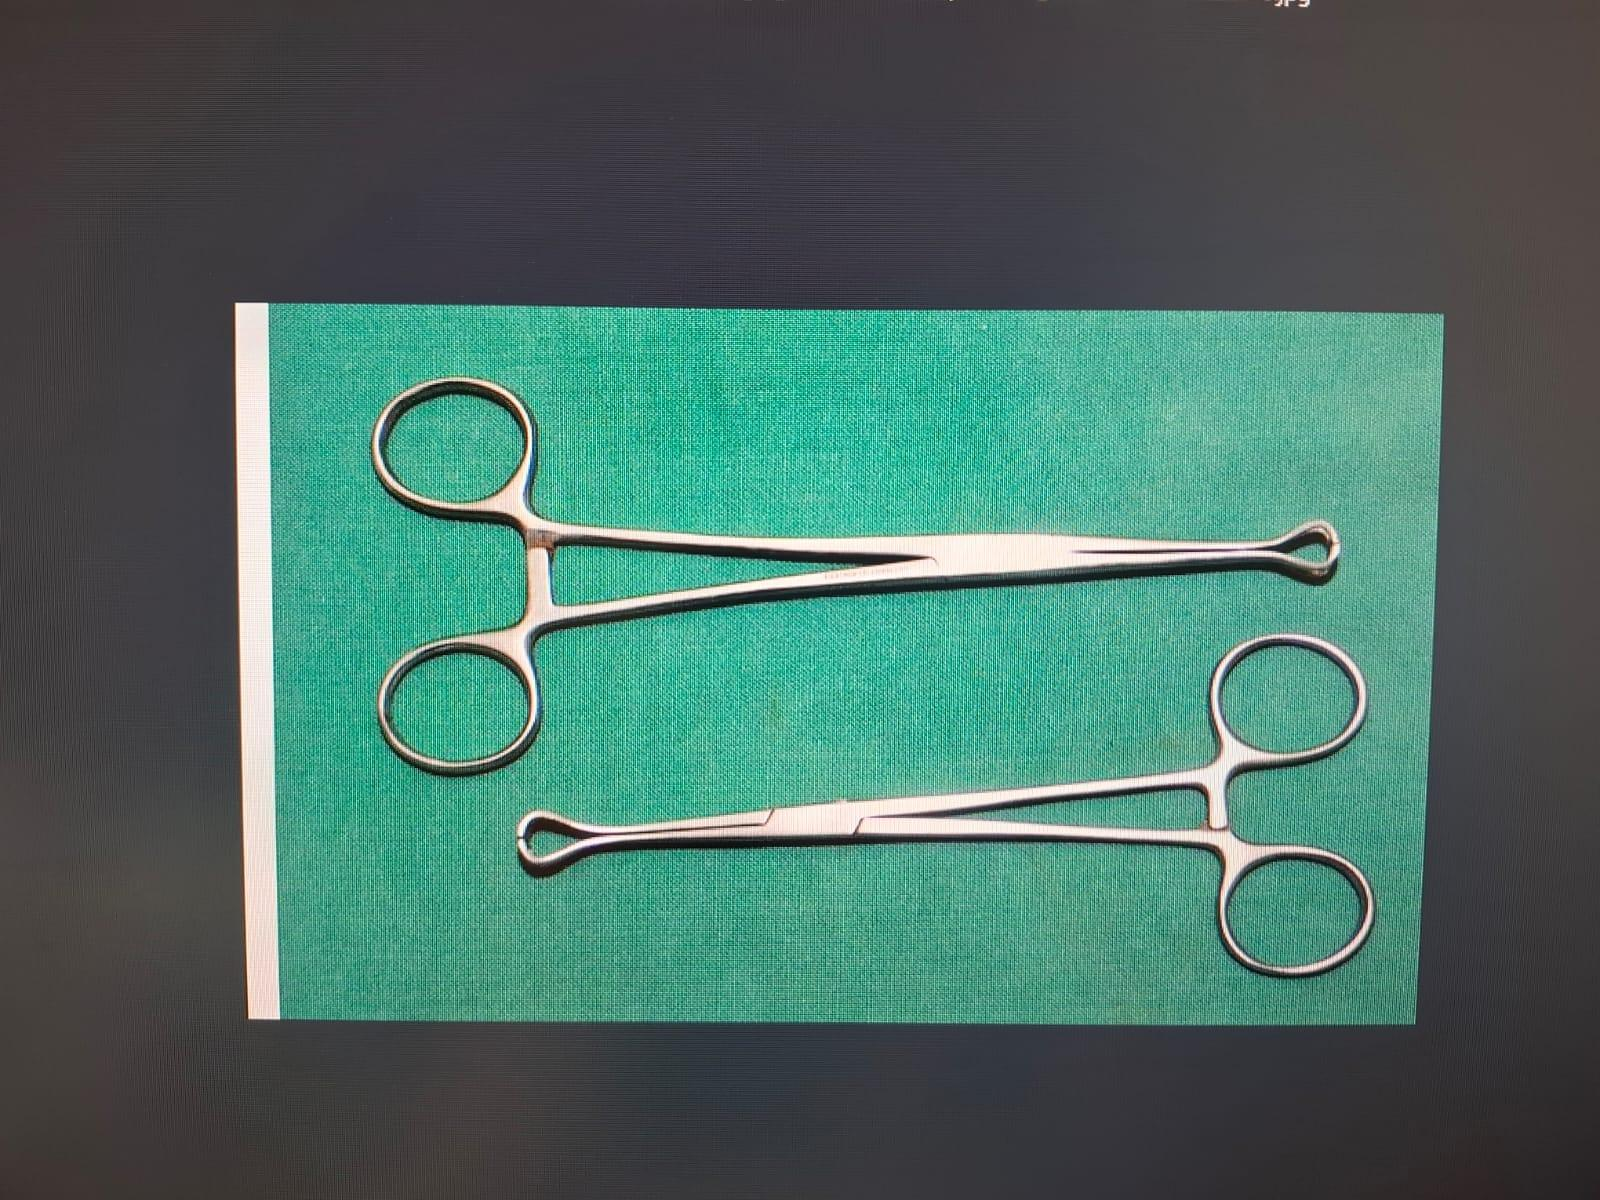Babcock Forceps: (348, 362, 1352, 792), (500, 632, 1403, 1002)
